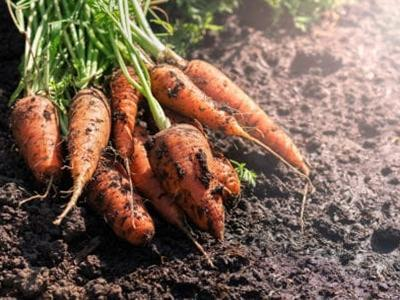carrot: (3, 41, 309, 225), (154, 61, 301, 226), (4, 4, 64, 172), (69, 16, 108, 215), (112, 65, 149, 170)
